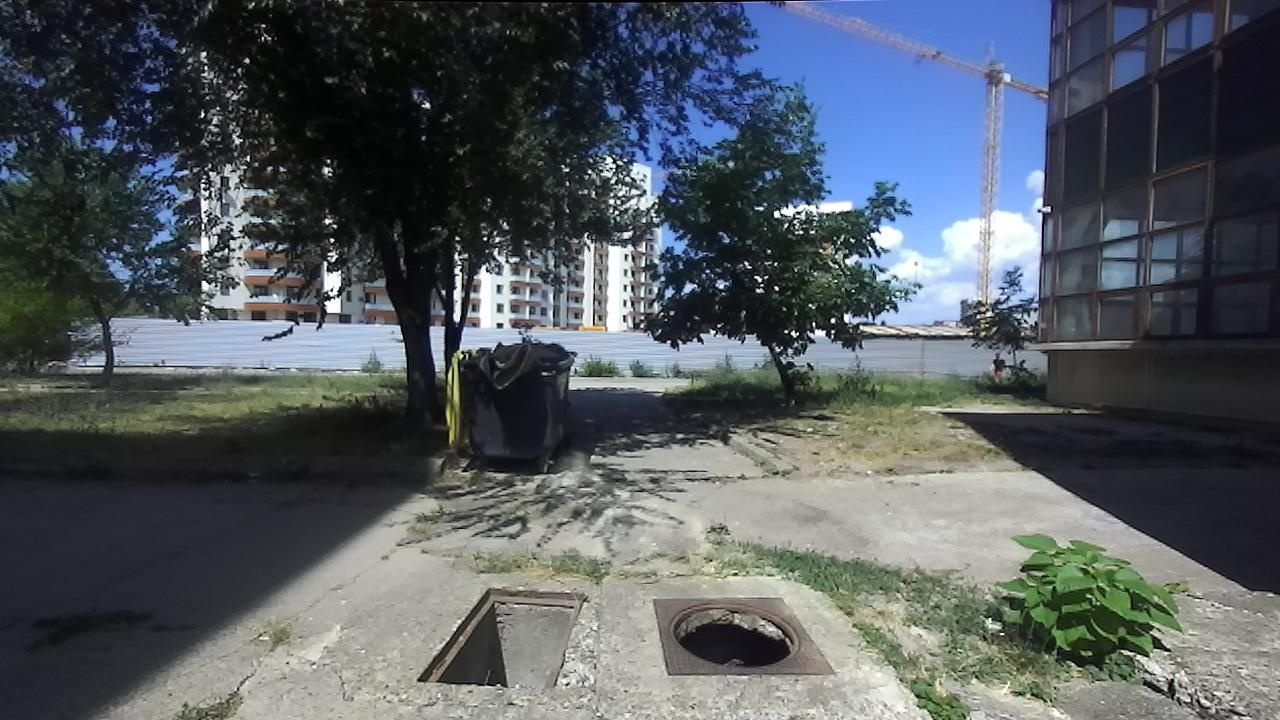drain: (412, 584, 588, 687), (668, 600, 800, 673)
